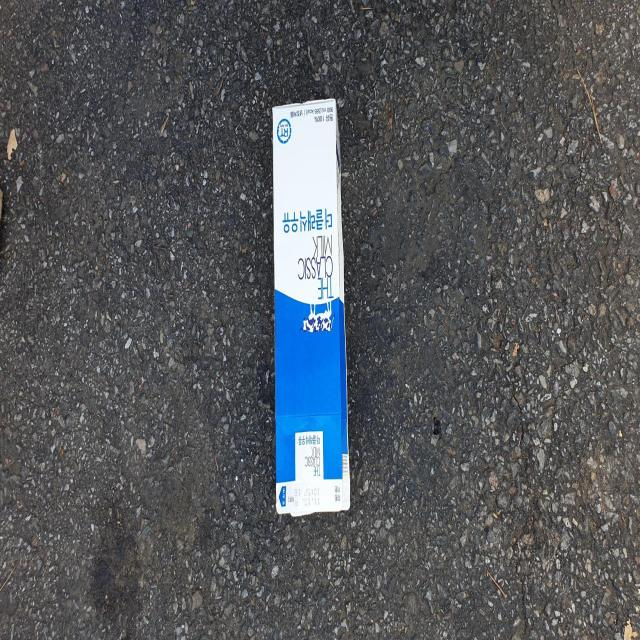paperpack: (273, 97, 350, 516)
